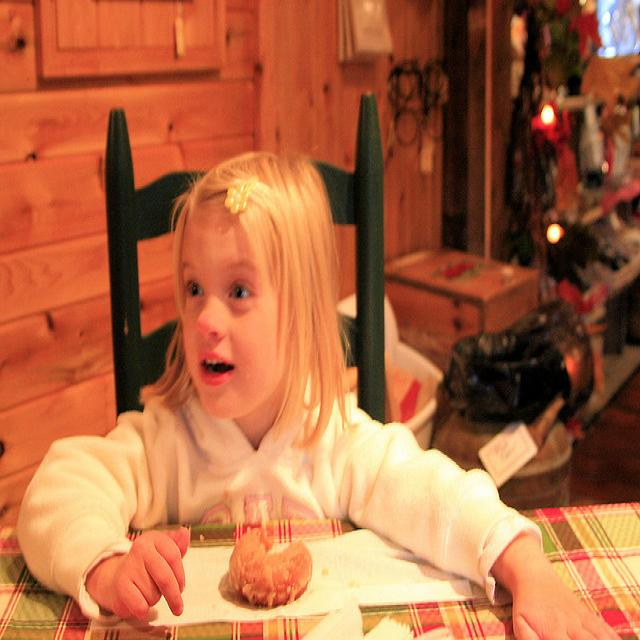chair: (106, 92, 388, 414)
